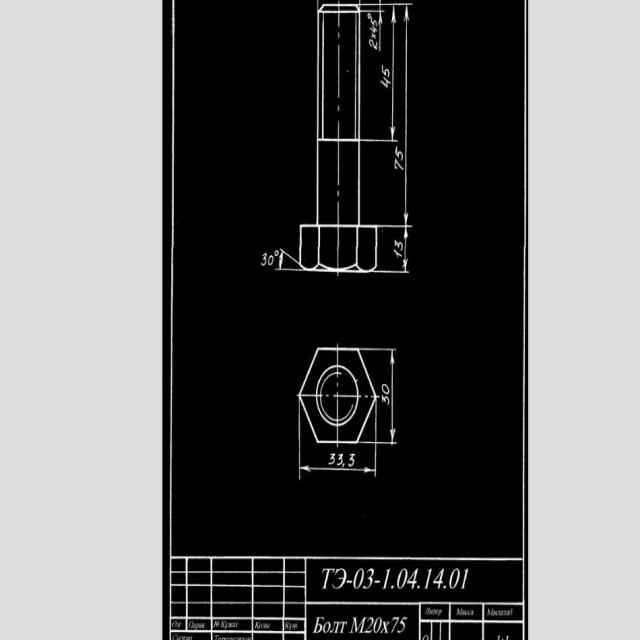marking_line: (405, 5, 410, 225), (390, 6, 397, 140), (301, 463, 374, 475), (388, 350, 395, 445), (403, 226, 409, 273), (377, 14, 383, 52)
numeric: (448, 564, 471, 591), (327, 452, 360, 469), (425, 565, 444, 592), (397, 566, 418, 590), (391, 616, 408, 636), (364, 616, 381, 635), (393, 145, 404, 174), (369, 18, 378, 50), (379, 67, 390, 89), (381, 384, 391, 407), (383, 567, 391, 595), (393, 238, 403, 259), (261, 252, 274, 267)
special_symbol: (365, 10, 371, 20)
